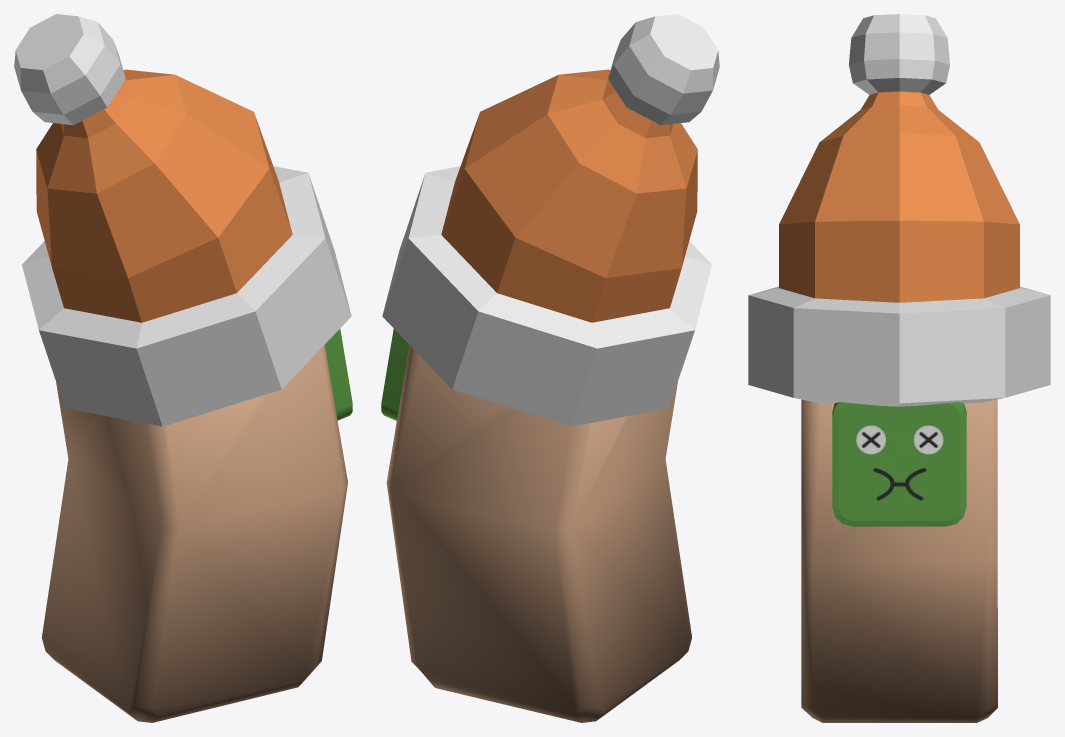
The model's file is Santa.fbx.
The picture shows the model from 3 angles, left to right: view 1: azimuth 30°, elevation 25°; view 2: azimuth 150°, elevation 25°; view 3: azimuth 270°, elevation 25°; orthographic projection. The views are drawn at different scales.
Visible parts, largest first — view 1: Cube.040, Cube.046, Cube.045; view 2: Cube.040, Cube.046, Cube.045; view 3: Cube.040, Cube.046, Cube.045.
Part boxes in pixels (x1,y1,x2,y2): Cube.040: (14,14,351,426); Cube.046: (42,345,347,722); Cube.045: (324,329,352,420); Cube.040: (382,14,719,426); Cube.046: (386,345,691,722); Cube.045: (381,329,409,420); Cube.040: (748,14,1050,406); Cube.046: (801,399,997,722); Cube.045: (832,402,966,526).
Bounding box in the file's own units: 42.83 × 47.44 × 97.98.
